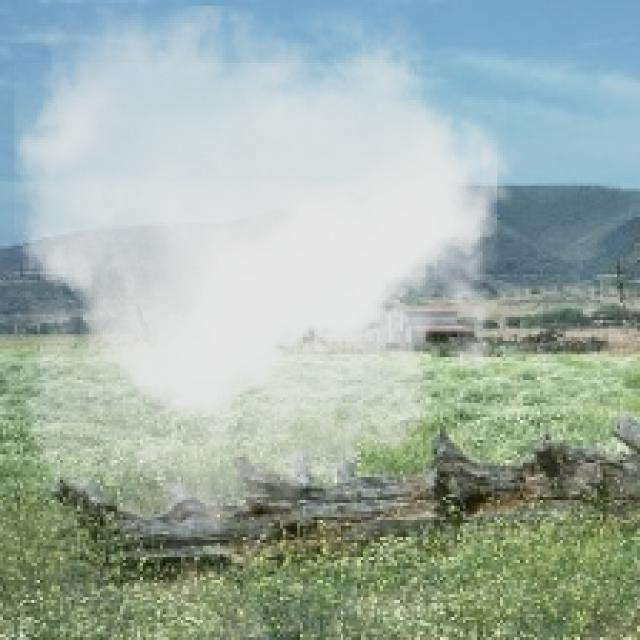smoke: (14, 6, 529, 560)
